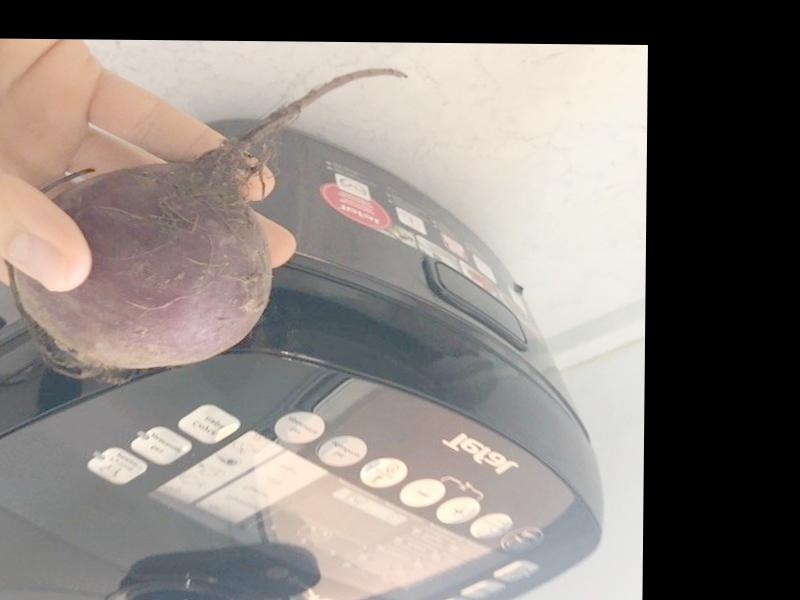Beet: (7, 66, 405, 384)
